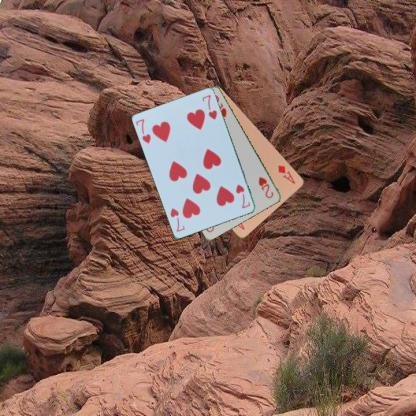2h: (256, 174, 275, 199)
7h: (233, 182, 252, 210), (134, 116, 152, 145)
Ad: (276, 162, 297, 186)
